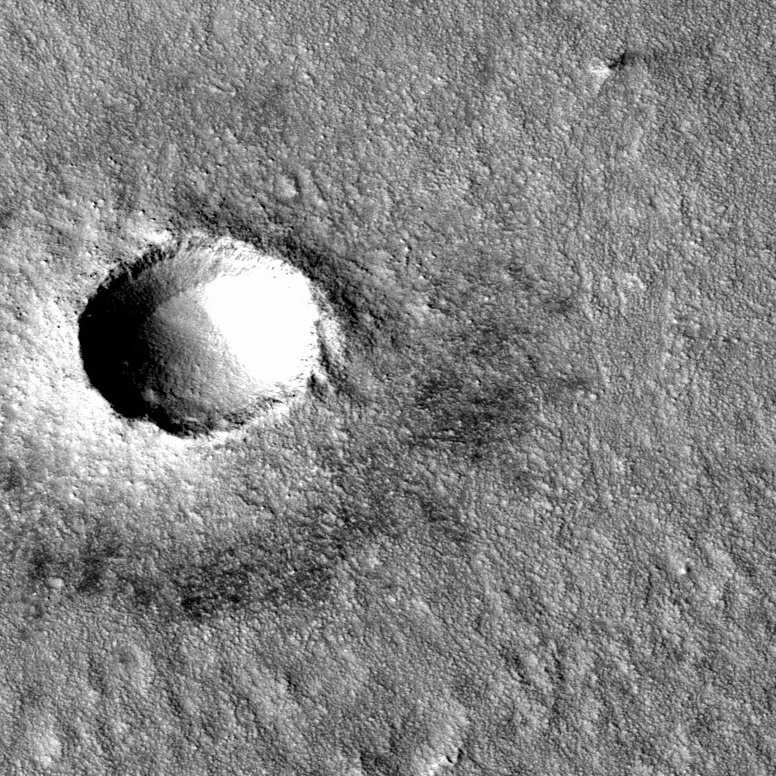dust_devil: (586, 46, 644, 95)
